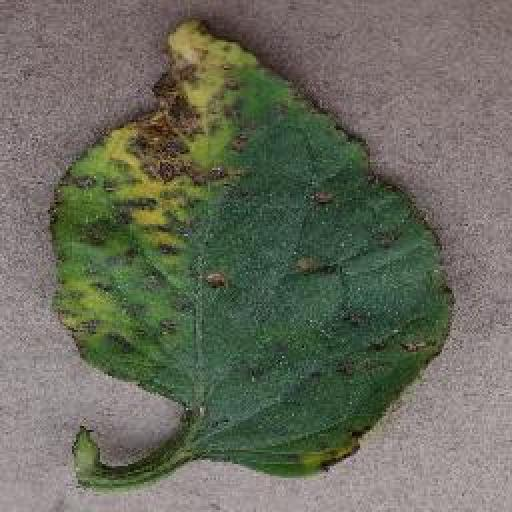Bacterial Spot: (47, 12, 460, 481)
